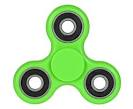fidget_spinner: (5, 1, 131, 106)
